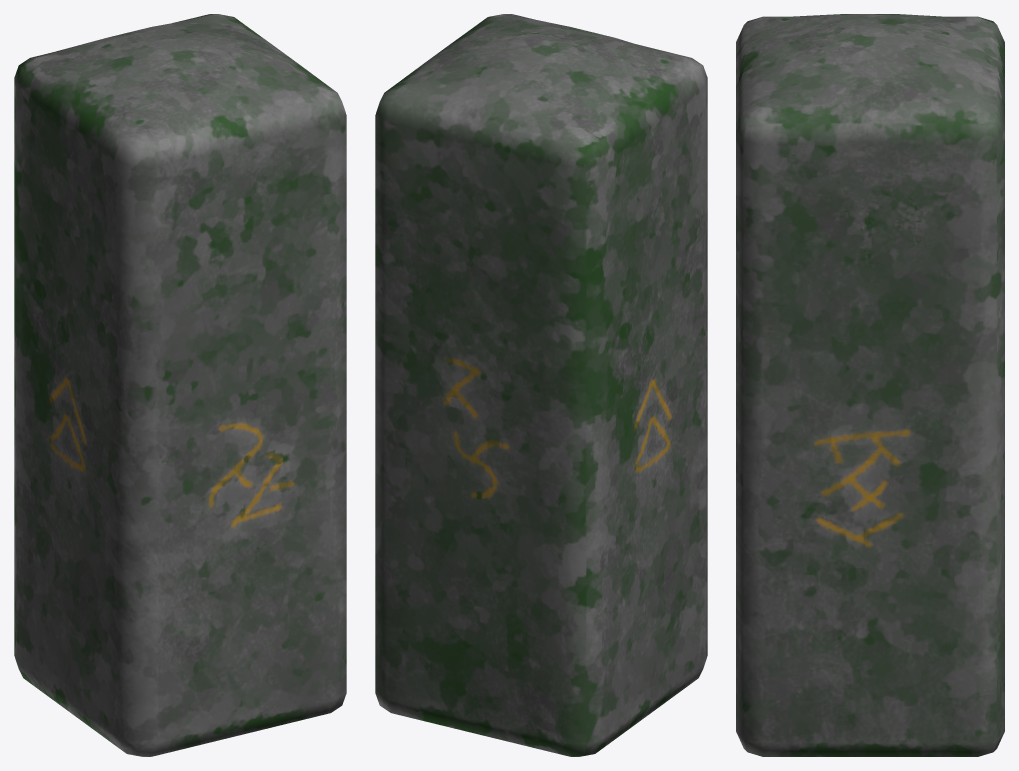
The model's file is Waypoint.fbx.
3 views of the same model, side by side, from view 1: azimuth 30°, elevation 25°; view 2: azimuth 150°, elevation 25°; view 3: azimuth 270°, elevation 25° (orthographic). The views are drawn at different scales.
Visible parts, largest first — view 1: Mystical_Stone; view 2: Mystical_Stone; view 3: Mystical_Stone.
Boxes of the visible parts, x1,y1,x2,y2 form: Mystical_Stone: (14,14,346,756); Mystical_Stone: (375,14,707,756); Mystical_Stone: (736,14,1004,756).
Bounding box in the file's own units: 0.3108 × 0.8545 × 0.3108.
Materials: 1 (1 with a texture image).
